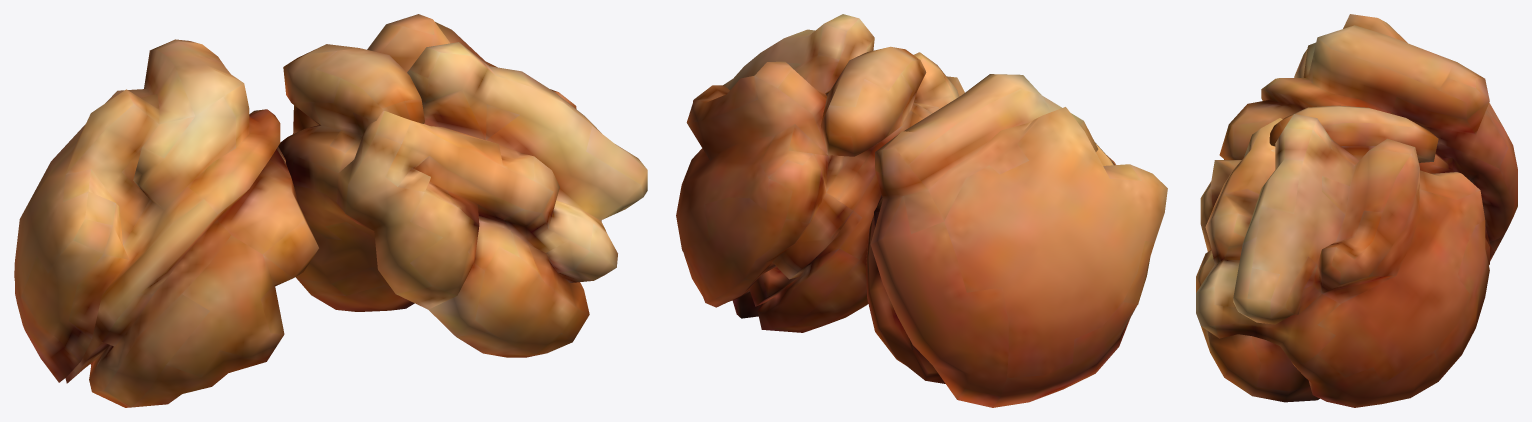
File: walnuts.glb
3 views of the same model, side by side, from view 1: azimuth 30°, elevation 25°; view 2: azimuth 150°, elevation 25°; view 3: azimuth 270°, elevation 25° (orthographic). The views are drawn at different scales.
Visible parts, largest first — view 1: Walnuts; view 2: Walnuts; view 3: Walnuts.
Part boxes in pixels (<box>): Walnuts: <box>14,14,647,407</box>; Walnuts: <box>676,14,1167,407</box>; Walnuts: <box>1196,14,1517,407</box>.
Size of the model in its own units: 1.54 by 0.8301 by 0.9546.
1 material, 1 textured.
